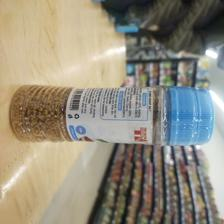TayNinh_blue: (8, 83, 214, 148)
